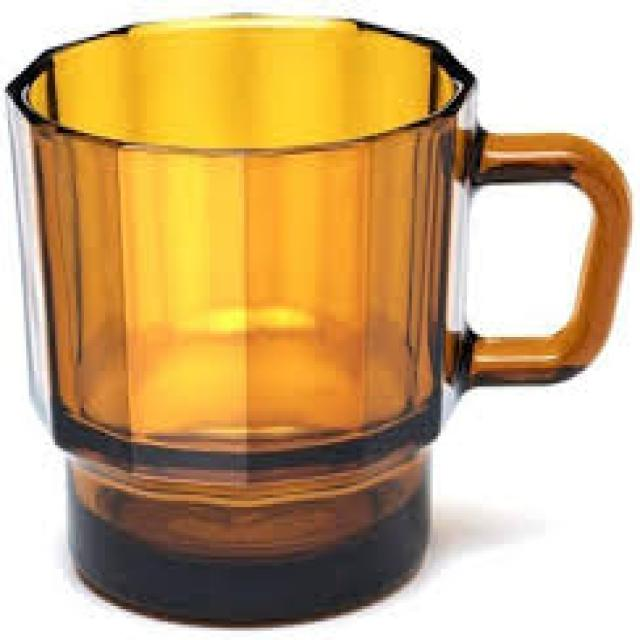glass: (0, 10, 630, 622)
